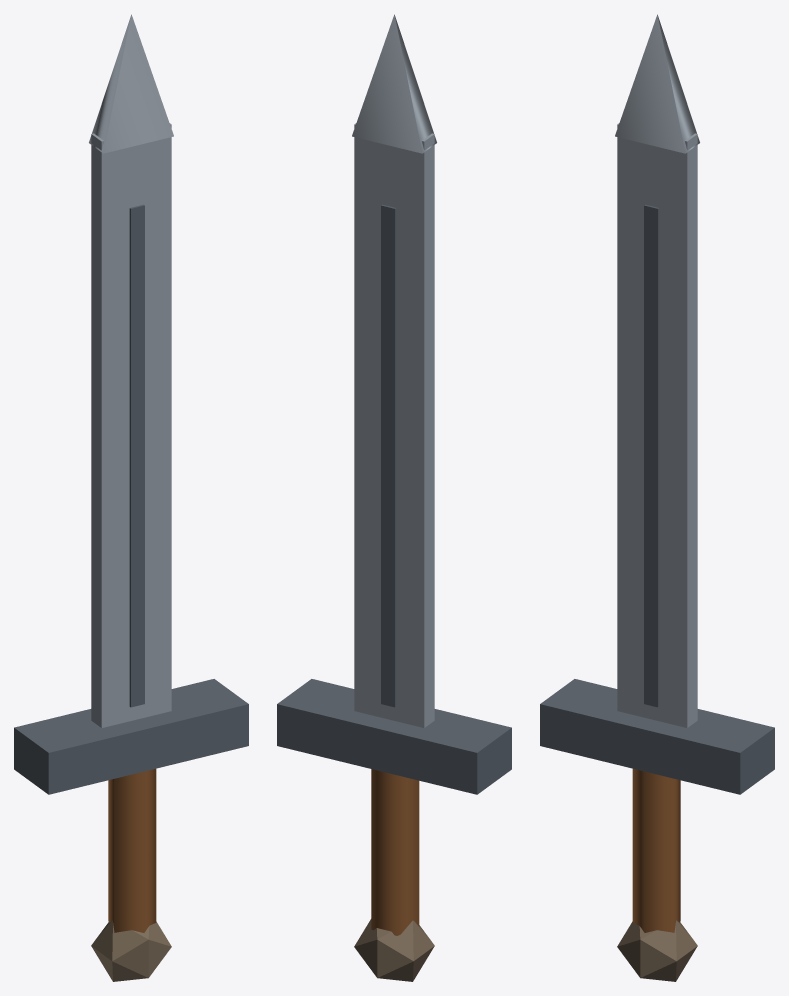
Rendered from weapon_sword_t1.glb.
The picture shows the model from 3 angles, left to right: view 1: azimuth 30°, elevation 25°; view 2: azimuth 150°, elevation 25°; view 3: azimuth 330°, elevation 25°; orthographic projection.
Parts seen in each view (by area): view 1: item_metal1, item_darkMetal1, item_leather1, item_trim1; view 2: item_metal1, item_darkMetal1, item_leather1, item_trim1; view 3: item_metal1, item_darkMetal1, item_leather1, item_trim1.
Boxes of the visible parts, x1,y1,x2,y2 form: item_metal1: (89,14,173,727); item_darkMetal1: (14,204,248,794); item_leather1: (108,768,156,932); item_trim1: (91,920,171,981); item_metal1: (352,14,436,727); item_darkMetal1: (277,204,511,794); item_leather1: (371,769,419,935); item_trim1: (354,919,434,981); item_metal1: (615,14,699,727); item_darkMetal1: (540,204,774,794); item_leather1: (632,768,680,932); item_trim1: (617,920,697,981).
Bounding box in the file's own units: 0.2 × 0.9198 × 0.06.
